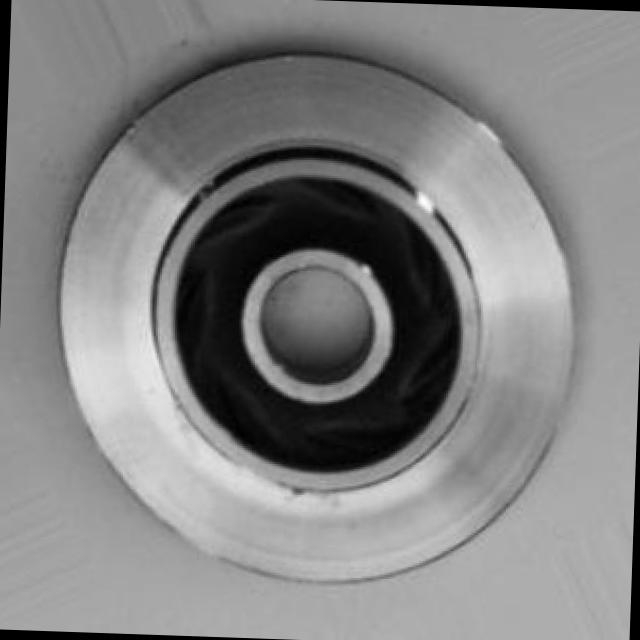Defect: (274, 480, 325, 510)
